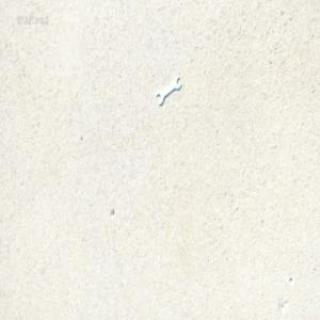Wrenchtrack_idkeyframe: (156, 73, 180, 105)
